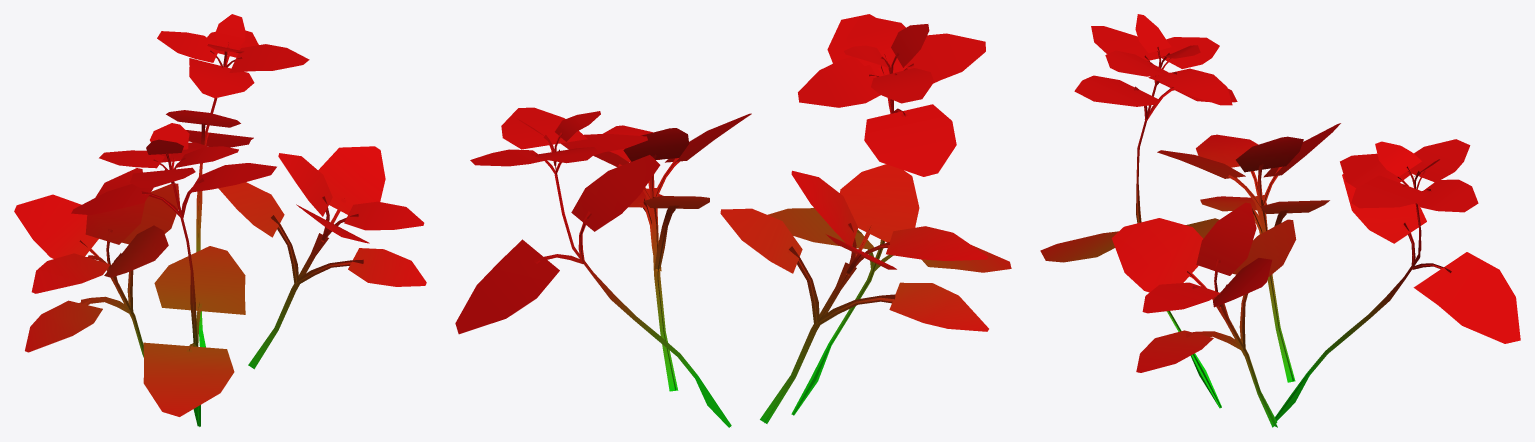
The model's file is Yellow Archangel_LOD1_Var11_wcwmcfvia.fbx.
3 views of the same model, side by side, from view 1: azimuth 30°, elevation 25°; view 2: azimuth 150°, elevation 25°; view 3: azimuth 270°, elevation 25° (orthographic). The views are drawn at different scales.
Parts seen in each view (by area): view 1: _47hg_Var11_LOD1; view 2: _47hg_Var11_LOD1; view 3: _47hg_Var11_LOD1.
Part boxes in pixels (x1,y1,x2,y2): _47hg_Var11_LOD1: (14, 14, 426, 426); _47hg_Var11_LOD1: (455, 14, 1011, 427); _47hg_Var11_LOD1: (1040, 14, 1520, 427).
Size of the model in its own units: 9.02 by 7.75 by 9.54.
